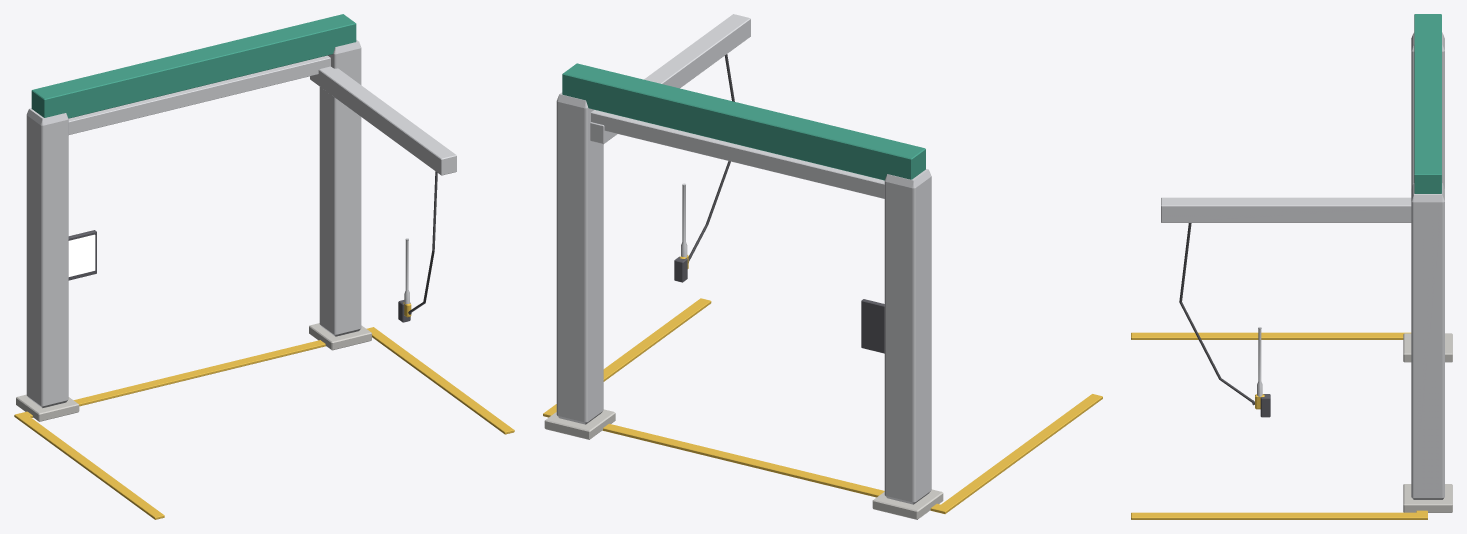
The model's file is petrol-station-and-forecourt-shop-jet-wash-bay-frame-bd39f477__33949.glb.
3 renders of one model, left to right at view 1: azimuth 30°, elevation 25°; view 2: azimuth 150°, elevation 25°; view 3: azimuth 270°, elevation 25°, orthographic. The views are drawn at different scales.
Visible parts, largest first — view 1: jet-wash-bay-frame; view 2: jet-wash-bay-frame; view 3: jet-wash-bay-frame.
Boxes of the visible parts, x1,y1,x2,y2 form: jet-wash-bay-frame: (14,14,514,519); jet-wash-bay-frame: (543,14,1102,519); jet-wash-bay-frame: (1131,14,1452,519).
Size of the model in its own units: 4.42 by 3.72 by 3.25.
